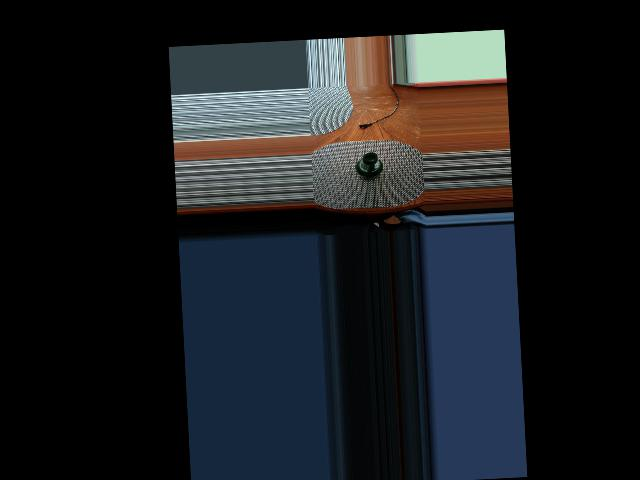beer: (355, 152, 381, 180)
